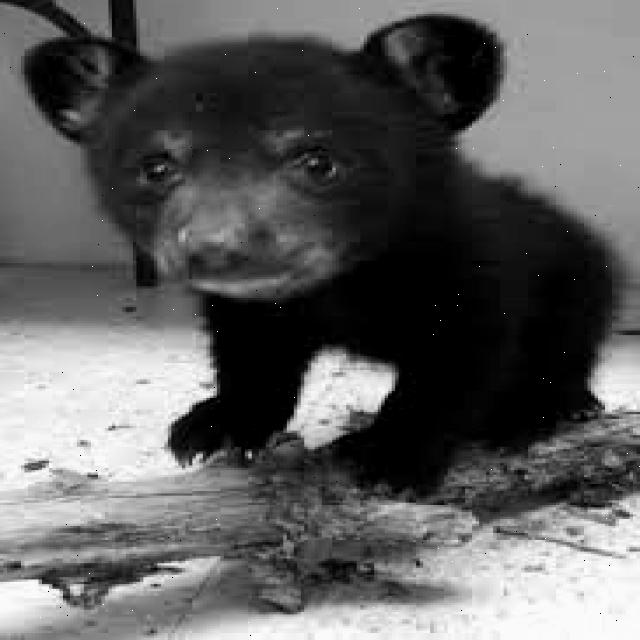bear: (22, 0, 580, 294)
